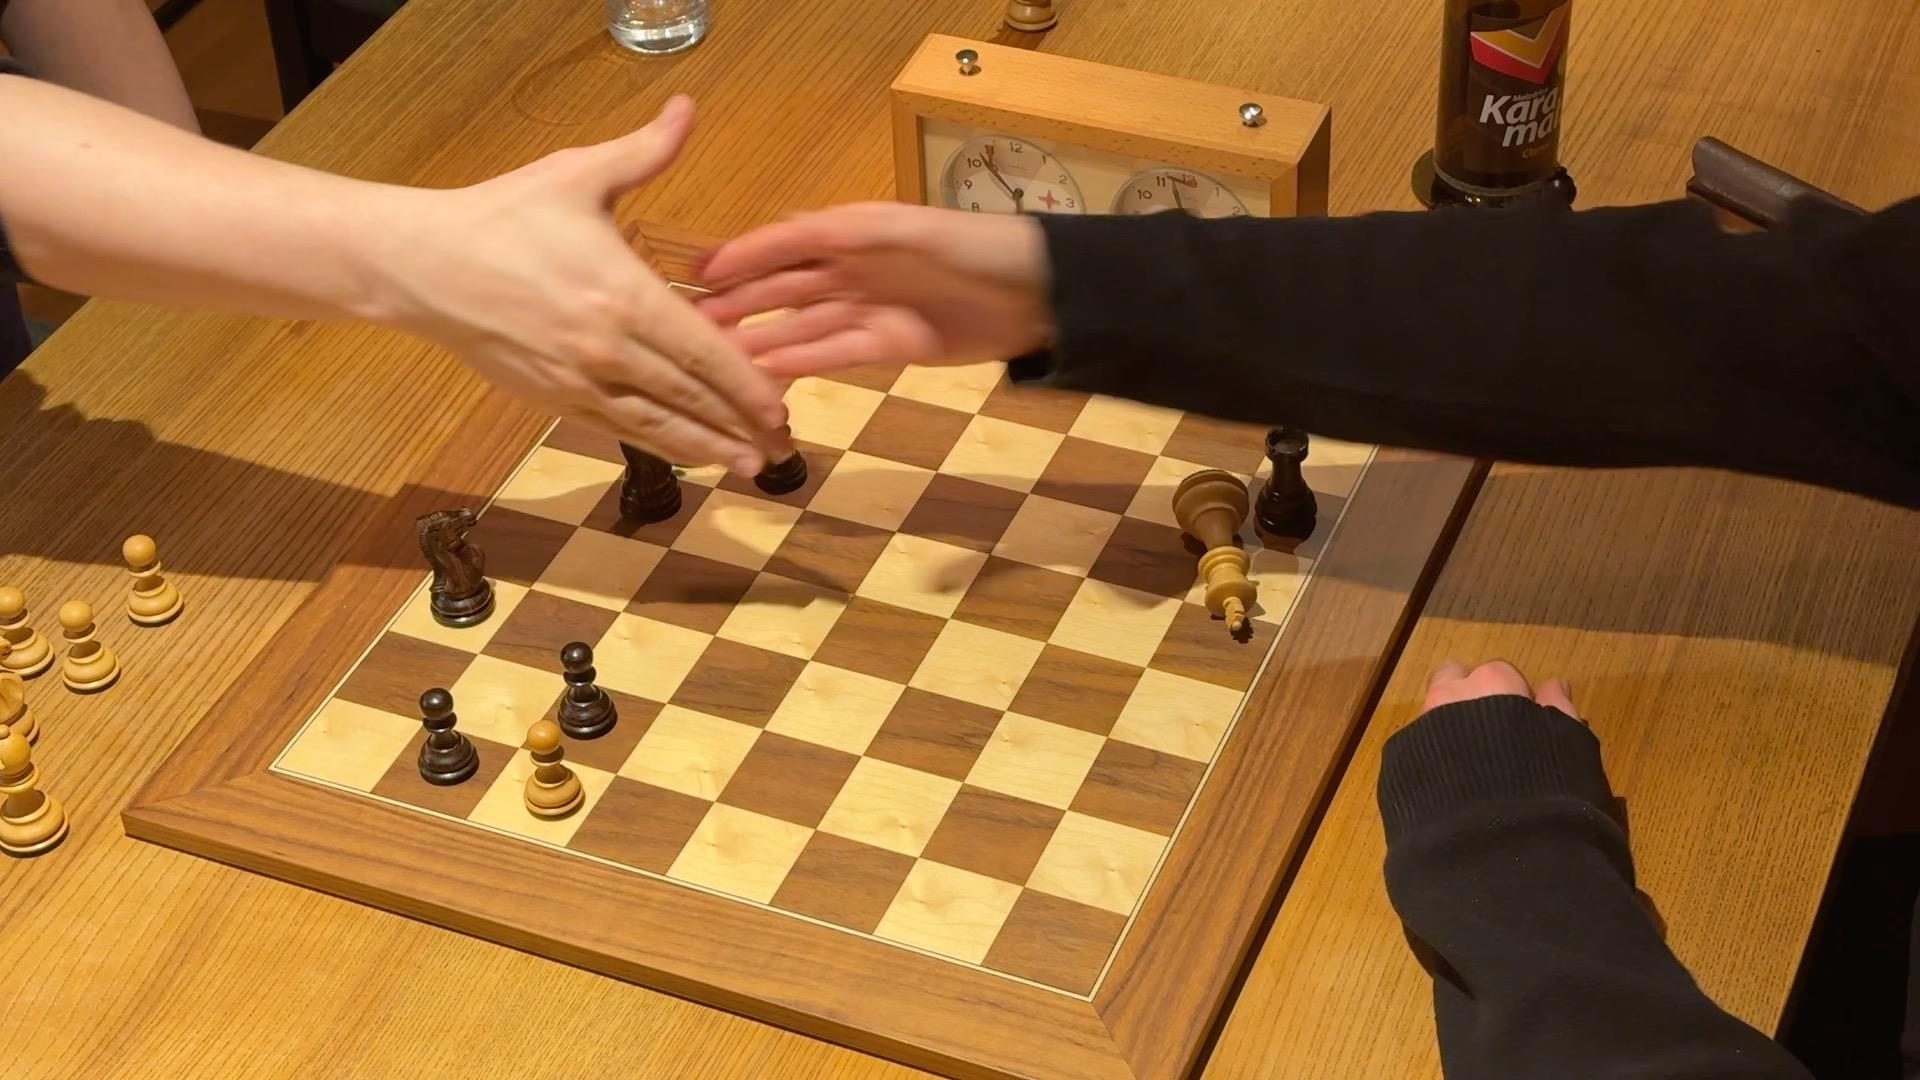Black Knight: (407, 498, 502, 634)
Black Pawn: (400, 674, 491, 791), (543, 634, 625, 746)
Black Rook: (1246, 418, 1327, 543)
White Pawn: (512, 713, 592, 829)
